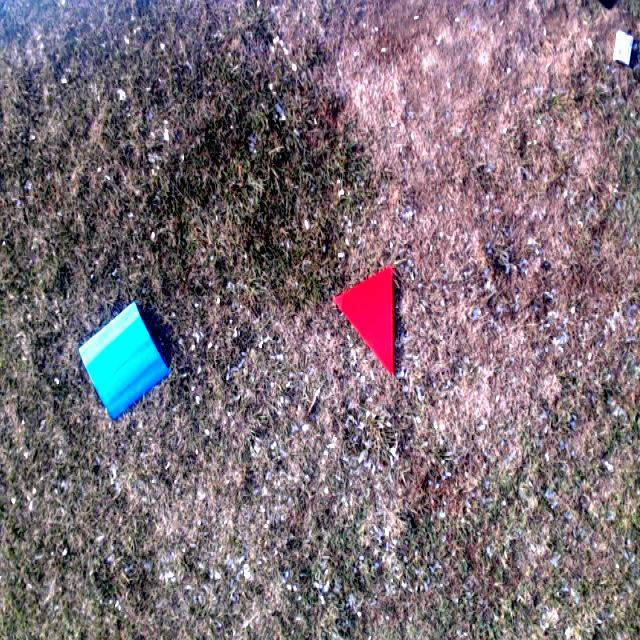blue_square: (76, 297, 168, 418)
red_triangle: (332, 260, 394, 375)
